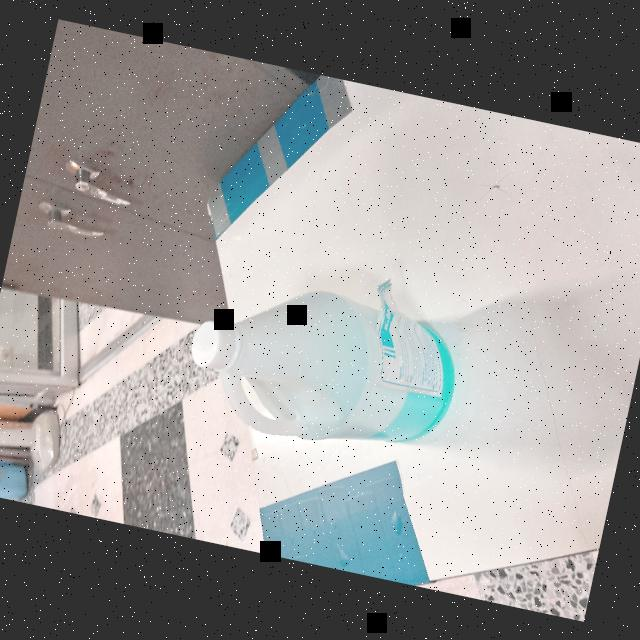chemical_plastic_gallon: (167, 263, 468, 477)
